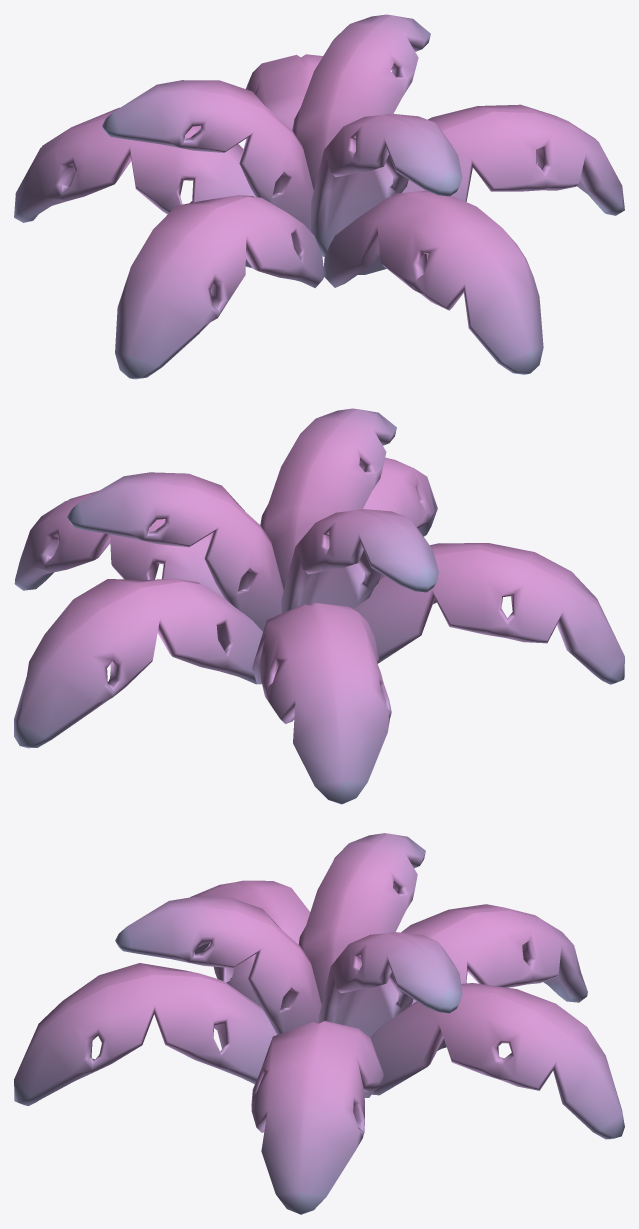
The model's file is vegetacion01.fbx.
3 renders of one model, top to bottom at view 1: azimuth 30°, elevation 25°; view 2: azimuth 150°, elevation 25°; view 3: azimuth 270°, elevation 25°, orthographic. The views are drawn at different scales.
Parts seen in each view (by area): view 1: Plant.005; view 2: Plant.005; view 3: Plant.005.
Boxes of the visible parts, x1,y1,x2,y2 form: Plant.005: (14, 14, 624, 379); Plant.005: (14, 408, 624, 804); Plant.005: (14, 833, 624, 1214).
Size of the model in its own units: 1485 by 501 by 1474.
1 material, 1 textured.
